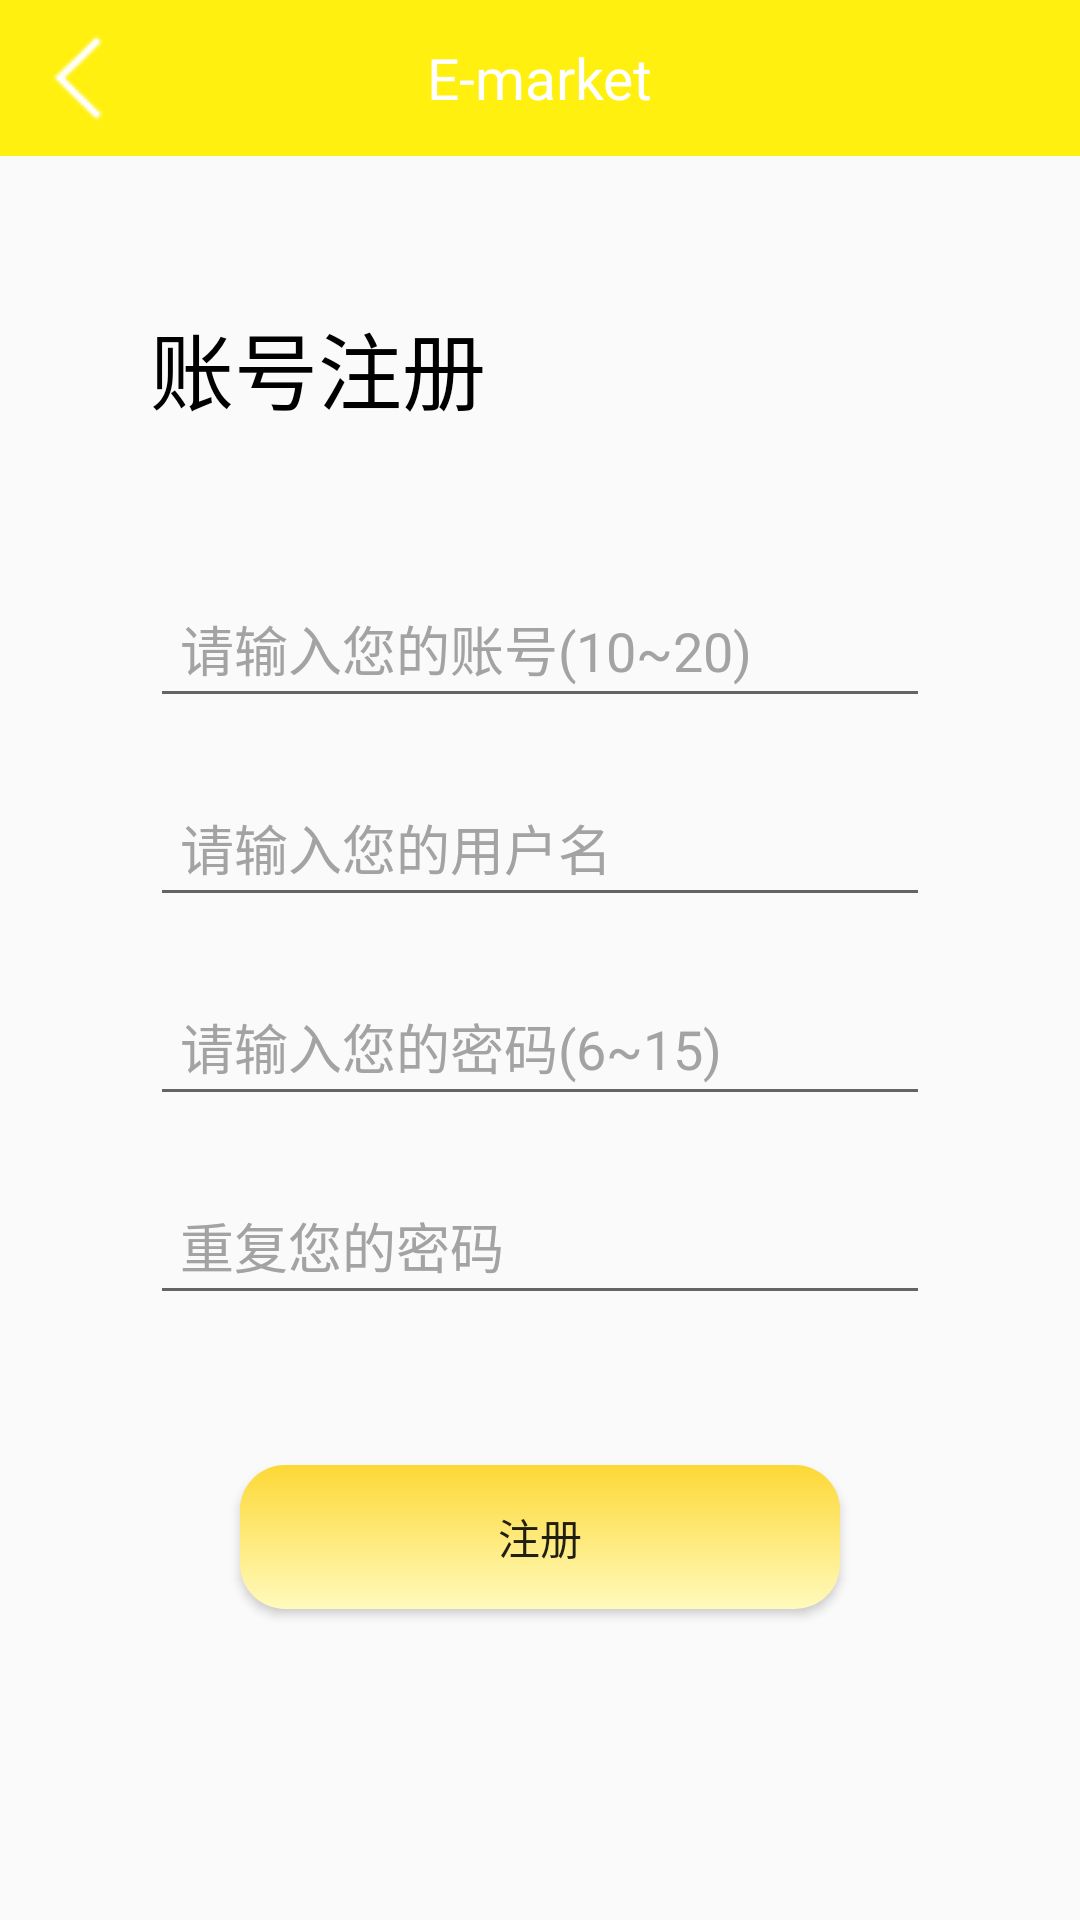

Named icons in this screenshot (1080px x 1920px) and their bounding boxes, (x1, y1, x2, y2):
left arrow: (53, 36, 103, 121)
